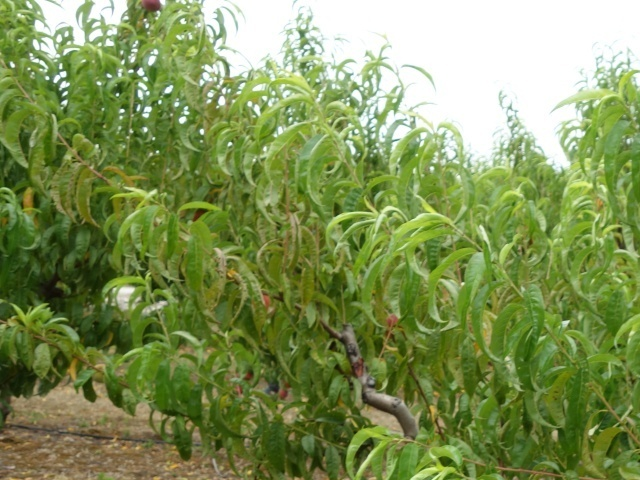peach: (137, 1, 163, 14)
